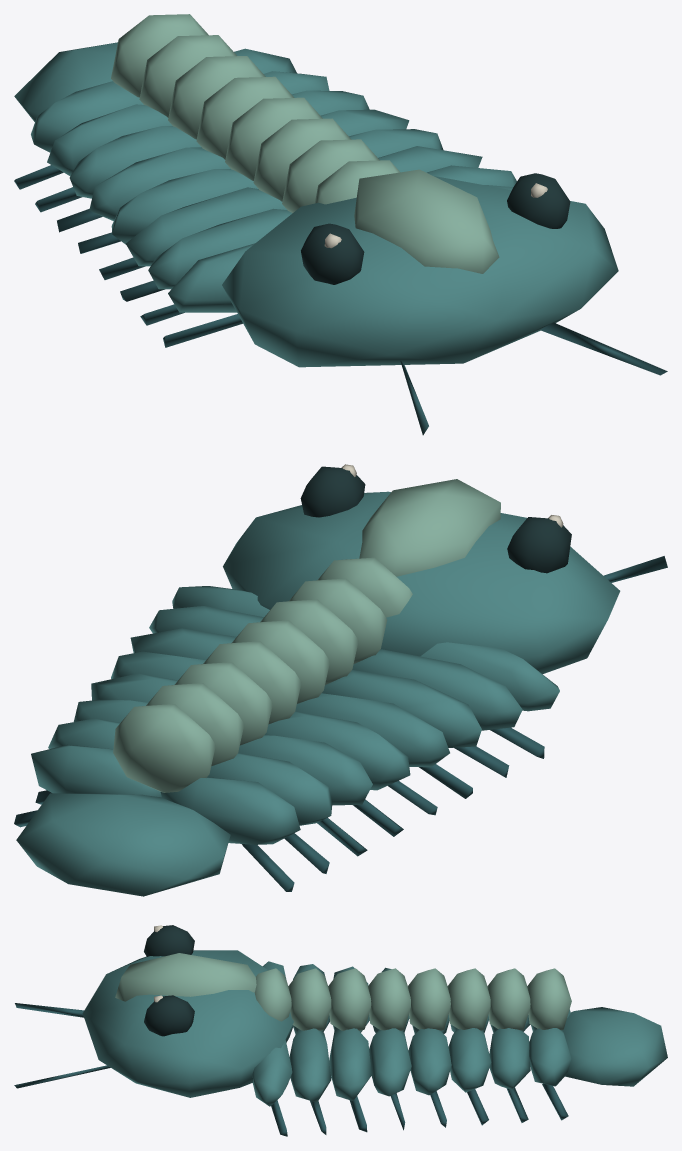
Rendered from org_trilobite.glb.
3 renders of one model, top to bottom at view 1: azimuth 30°, elevation 25°; view 2: azimuth 150°, elevation 25°; view 3: azimuth 270°, elevation 25°, orthographic. The views are drawn at different scales.
Visible parts, largest first — view 1: Body, Head, Tail, Eye_R, Eye_L; view 2: Body, Head, Tail, Eye_R, Eye_L; view 3: Body, Head, Tail, Eye_L, Eye_R.
Part boxes in pixels (left/top/right/bottom): Body: left=14, top=14, right=516, bottom=347; Head: left=222, top=169, right=667, bottom=435; Tail: left=14, top=42, right=117, bottom=121; Eye_R: left=301, top=223, right=364, bottom=284; Eye_L: left=507, top=173, right=570, bottom=228; Body: left=14, top=557, right=559, bottom=891; Head: left=223, top=479, right=667, bottom=674; Tail: left=16, top=793, right=230, bottom=896; Eye_R: left=507, top=515, right=571, bottom=573; Eye_L: left=300, top=464, right=365, bottom=517; Body: left=252, top=961, right=571, bottom=1136; Head: left=14, top=950, right=293, bottom=1097; Tail: left=562, top=1007, right=667, bottom=1086; Eye_L: left=144, top=995, right=194, bottom=1036; Eye_R: left=144, top=925, right=194, bottom=956.
Bounding box in the file's own units: 1.02 × 0.4223 × 2.13.
